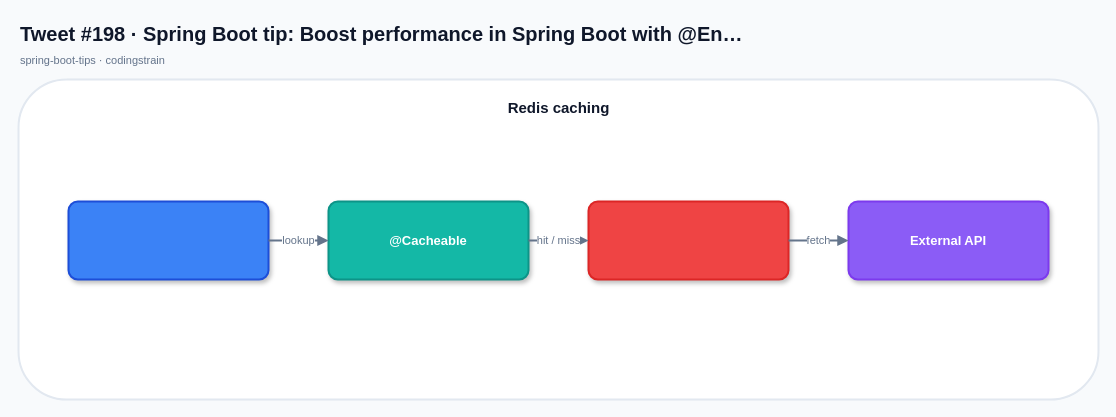
Image size: 1116x417. Some labels were removed from this diagram. Each missing label, with the centre of its shape:
Redis: (x=689, y=241)
Request: (x=169, y=241)
